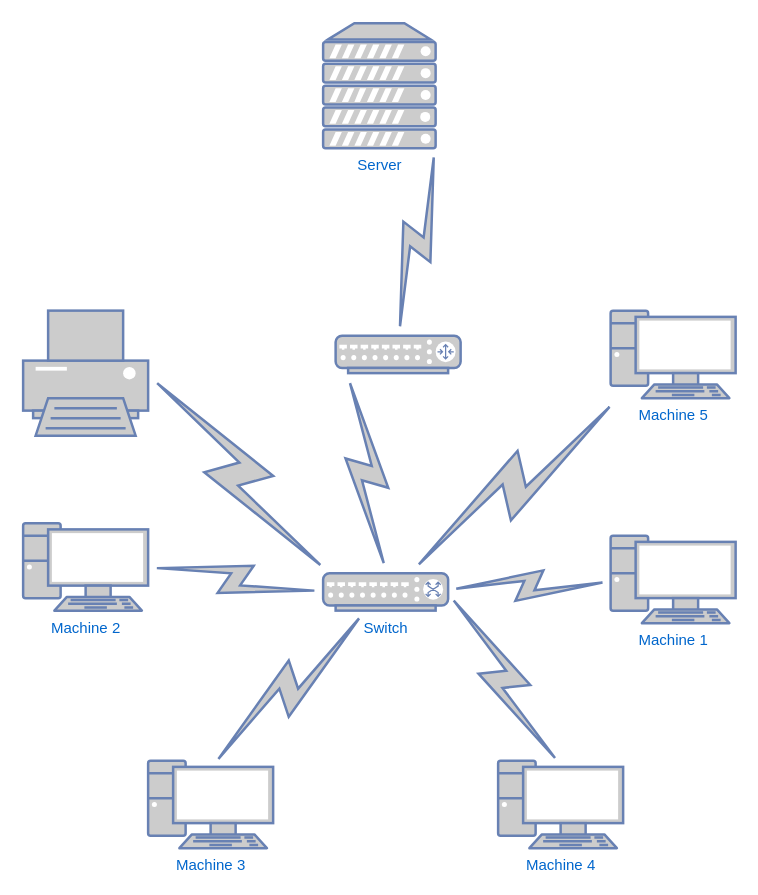
The diagram is 758 pixels wide and 895 high, and some of its shapes have lost their labels. The shapes that lost their labels are listed below. From the top down, each one's centre as x and y in pixels, then its label:
At (85,372): "Printer".
At (397,354): "Router".
